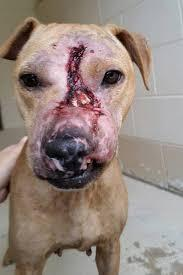bleeding: (54, 40, 100, 162)
